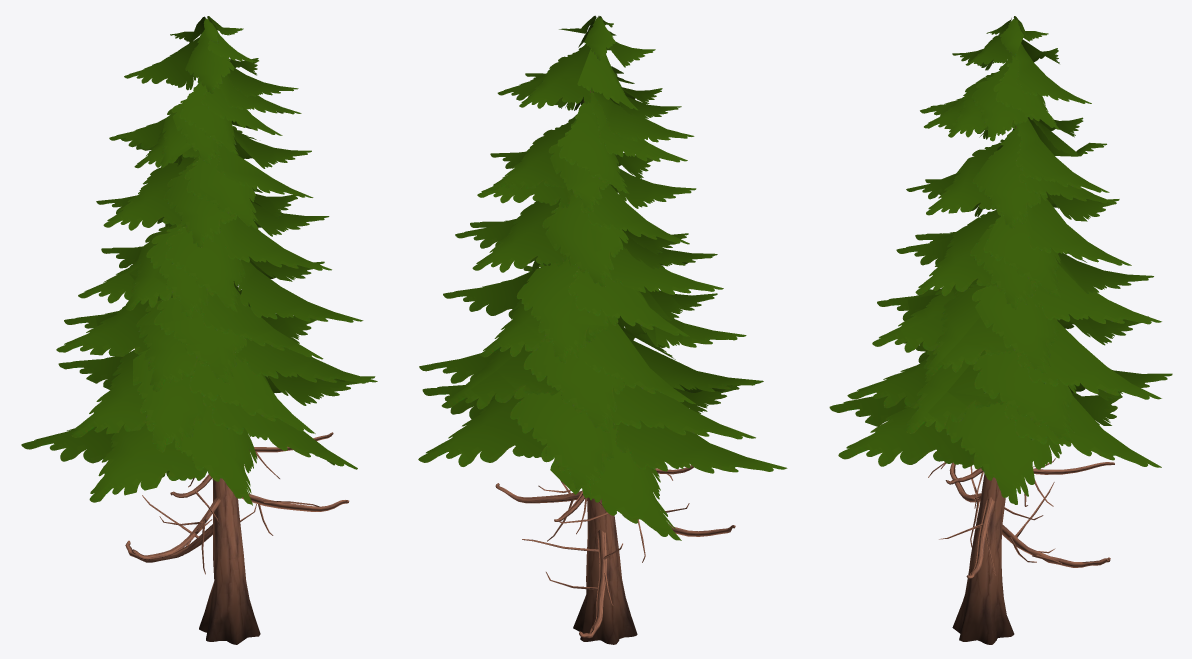
File: pine-4.glb
The picture shows the model from 3 angles, left to right: view 1: azimuth 30°, elevation 25°; view 2: azimuth 150°, elevation 25°; view 3: azimuth 270°, elevation 25°; orthographic projection. The views are drawn at different scales.
Parts seen in each view (by area): view 1: Pine_4; view 2: Pine_4; view 3: Pine_4.
Part boxes in pixels (x1,y1,x2,y2): Pine_4: [21, 16, 377, 644]; Pine_4: [418, 15, 787, 644]; Pine_4: [829, 16, 1172, 644].
Bounding box in the file's own units: 5.8 × 10.24 × 5.37.
Materials: 2 (2 with a texture image).
